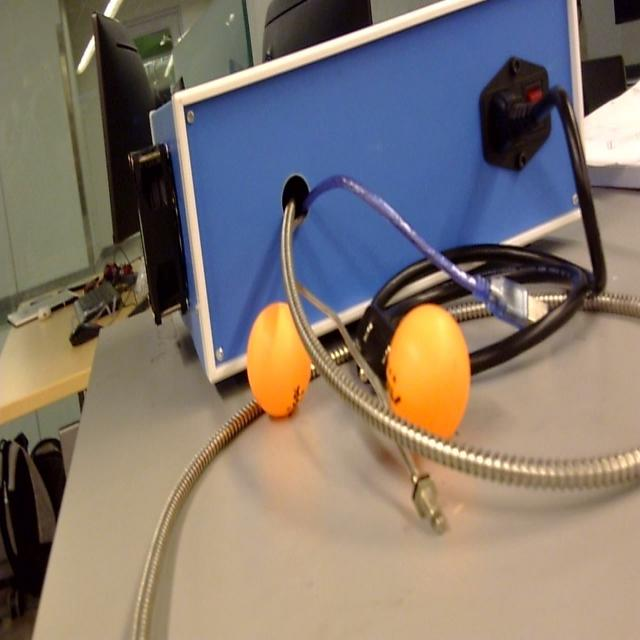ball: (384, 304, 472, 456), (247, 298, 312, 422)
